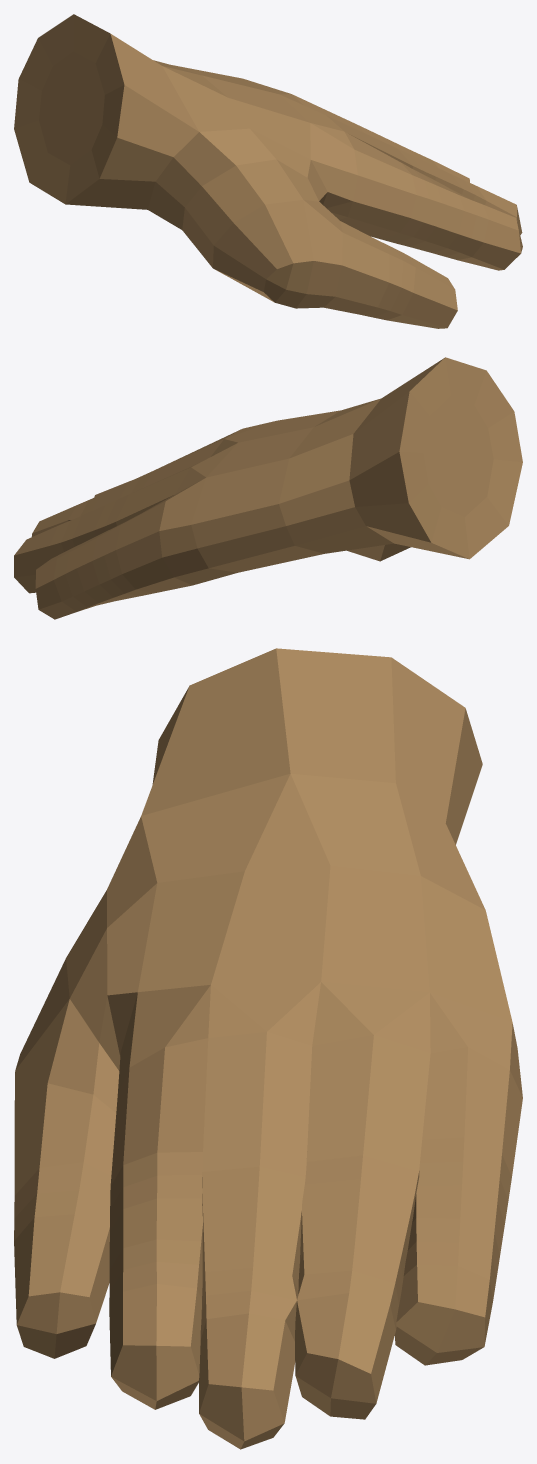
The model's file is Glove_L.fbx.
3 renders of one model, top to bottom at view 1: azimuth 30°, elevation 25°; view 2: azimuth 150°, elevation 25°; view 3: azimuth 270°, elevation 25°, orthographic. The views are drawn at different scales.
Visible parts, largest first — view 1: Glove_L; view 2: Glove_L; view 3: Glove_L.
Part boxes in pixels (left/top/right/bottom): Glove_L: left=14, top=14, right=522, bottom=328; Glove_L: left=14, top=357, right=522, bottom=619; Glove_L: left=14, top=648, right=522, bottom=1449.
Size of the model in its own units: 18.14 by 11.78 by 10.78.
1 material, 1 textured.
